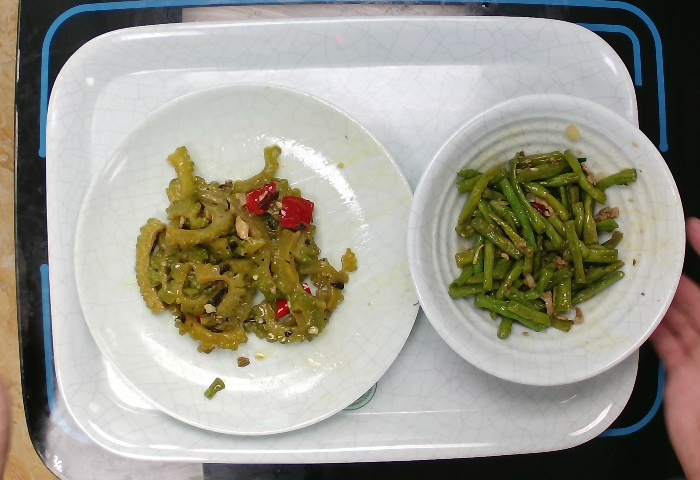JYsf-Da_Yuan_Pan: (68, 80, 428, 440)
JYsf-Xiao_Tang_Wan: (401, 87, 696, 391)
